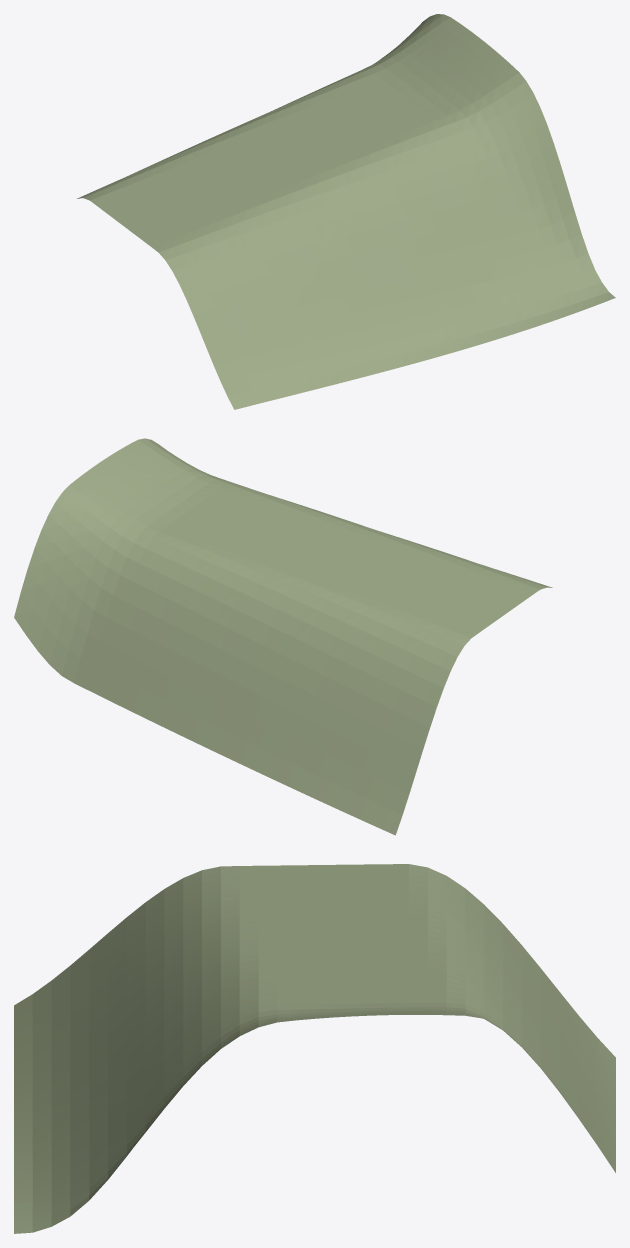
Rendered from alpine-5-2.glb.
The picture shows the model from 3 angles, top to bottom: view 1: azimuth 30°, elevation 25°; view 2: azimuth 150°, elevation 25°; view 3: azimuth 270°, elevation 25°; orthographic projection. The views are drawn at different scales.
Visible parts, largest first — view 1: alpine-5-2; view 2: alpine-5-2; view 3: alpine-5-2.
Boxes of the visible parts, x1,y1,x2,y2 form: alpine-5-2: (77,14,615,409); alpine-5-2: (14,438,552,835); alpine-5-2: (14,864,615,1233).
Bounding box in the file's own units: 256 × 139 × 256.
